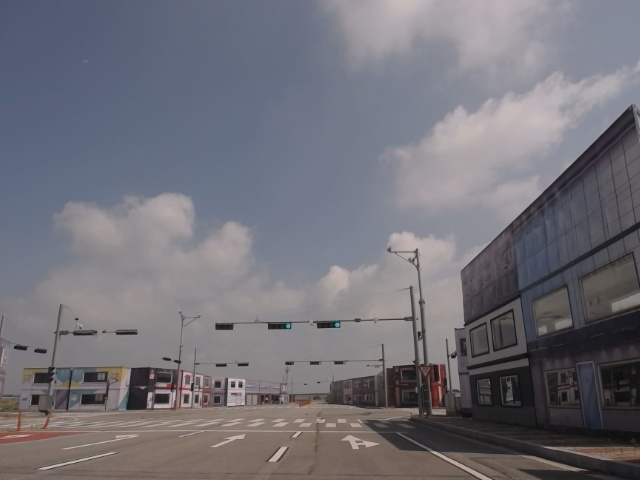straight_green_4: (316, 320, 342, 329), (268, 322, 294, 329)
